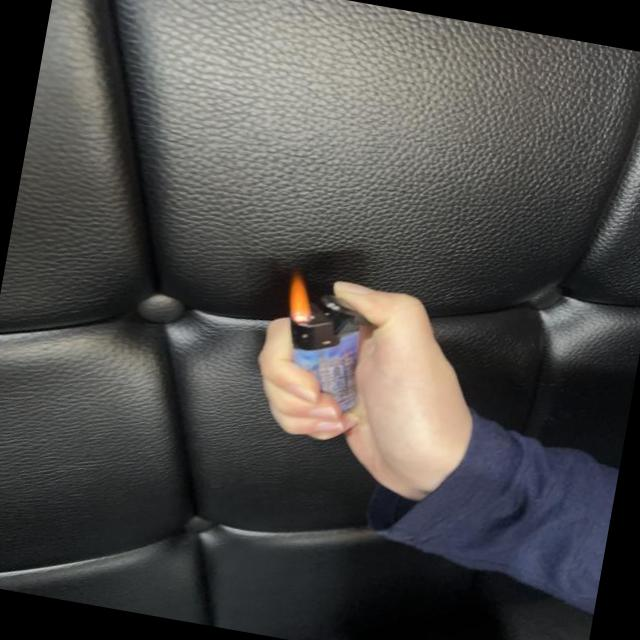Fire: (281, 272, 319, 330)
